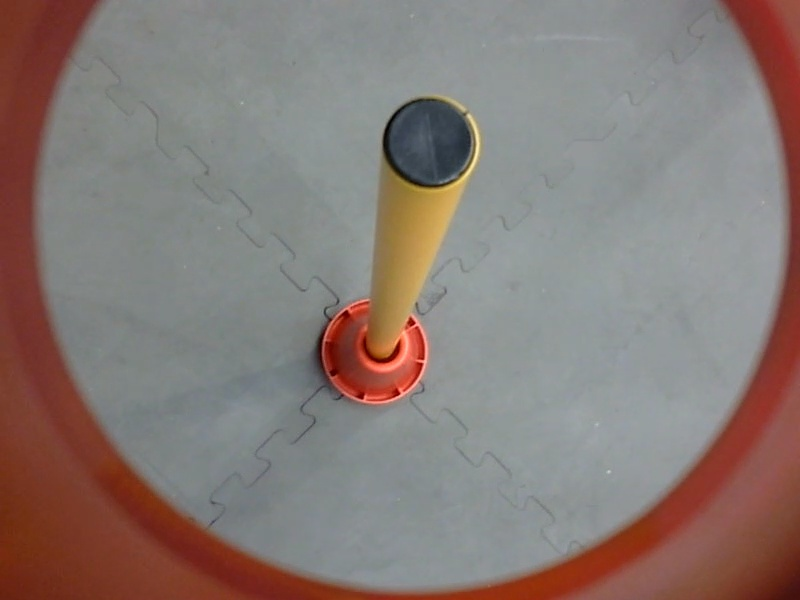tip: (369, 84, 487, 198)
